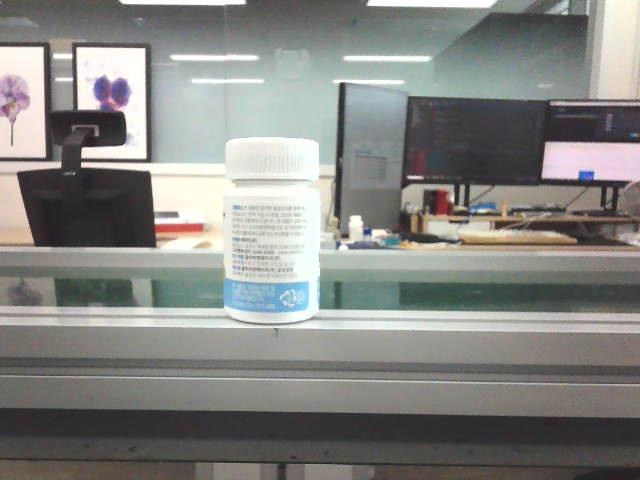labeled: (218, 130, 329, 332)
